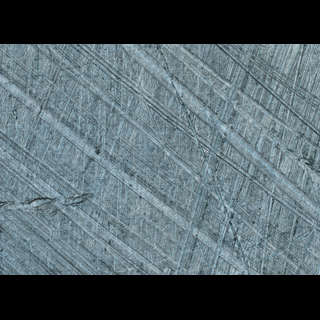d: (0, 188, 97, 220)
